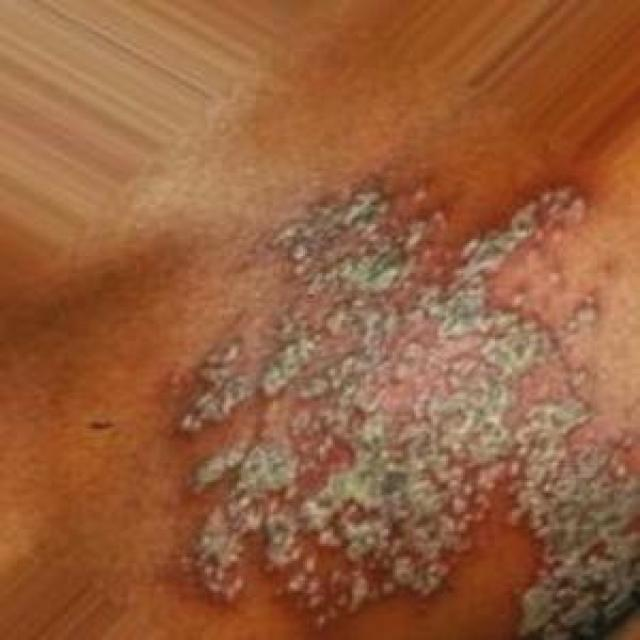Shingles: (172, 173, 640, 640)
